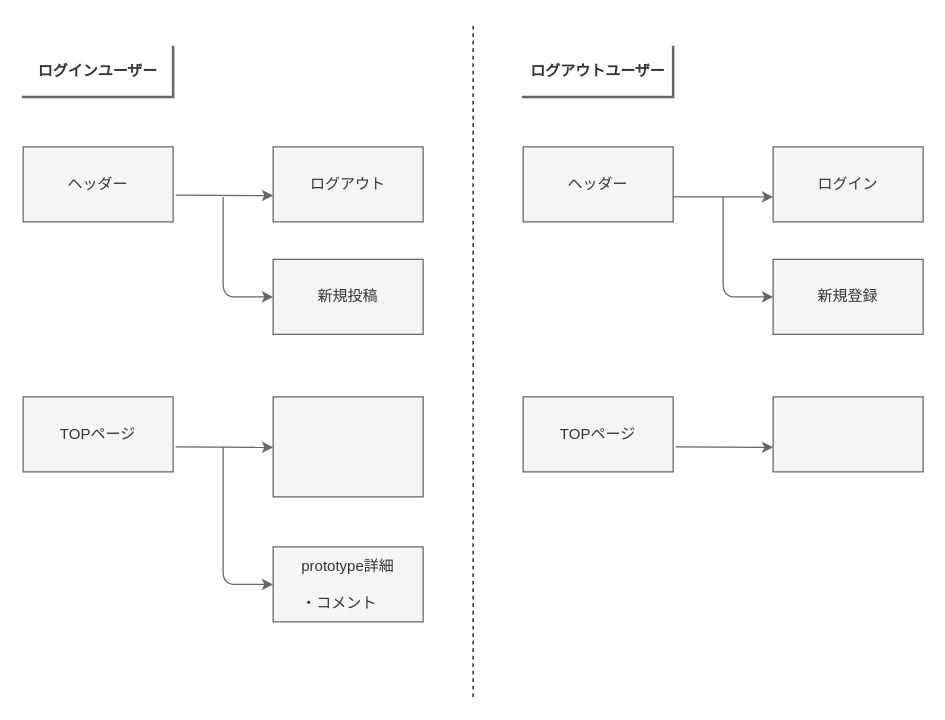
Some shapes in this 945 by 720 pixel diagram are drawn without their labels. The shapes that lost their labels are listed below. From the top down, each one's centre as x and y in pixels, then its label:
At pixel 347 446: "マイページ ・ユーザー情報 ・prototype一覧".
At pixel 847 434: "prototype詳細".
